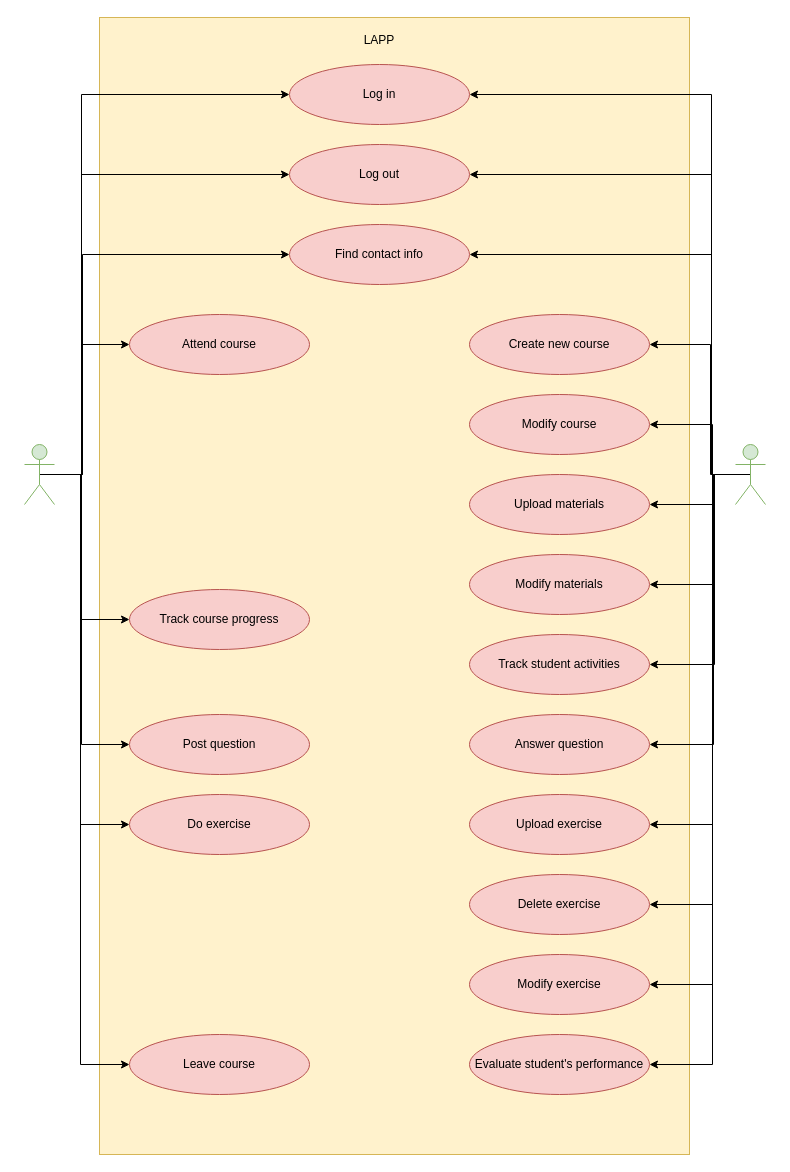
Some shapes in this 790 by 1172 pixel diagram are drawn without their labels. The centre of each missing label's shape, as x and y in pixels:
"Lecturer" belongs at point 750,474.
"Student" belongs at point 39,474.
